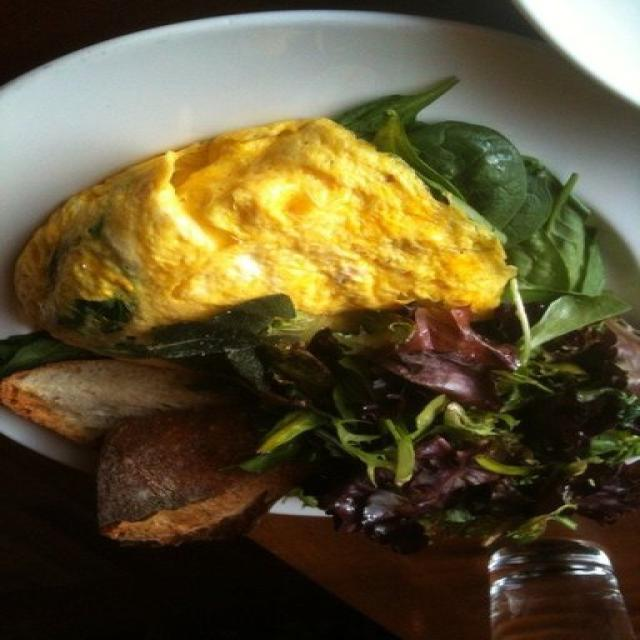telur_ayam_dadar: (9, 116, 518, 364)
